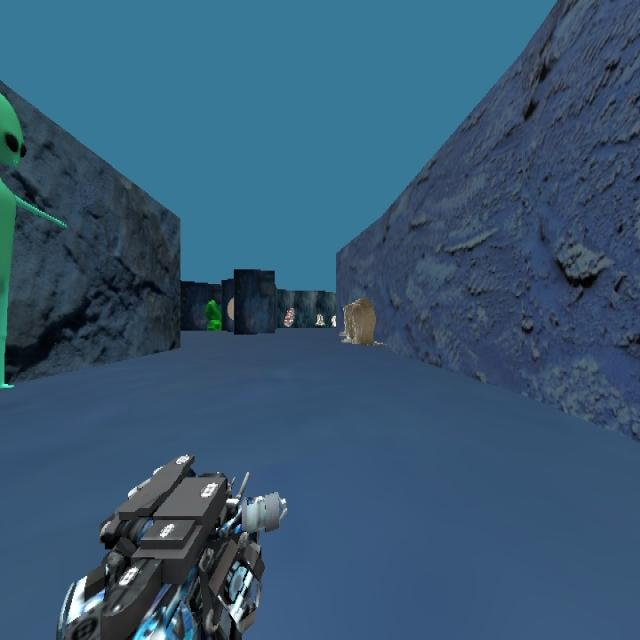Alien: (0, 91, 68, 389)
Circle: (224, 294, 240, 331)
Diamon: (201, 298, 220, 336)
Ice: (342, 296, 376, 345)
